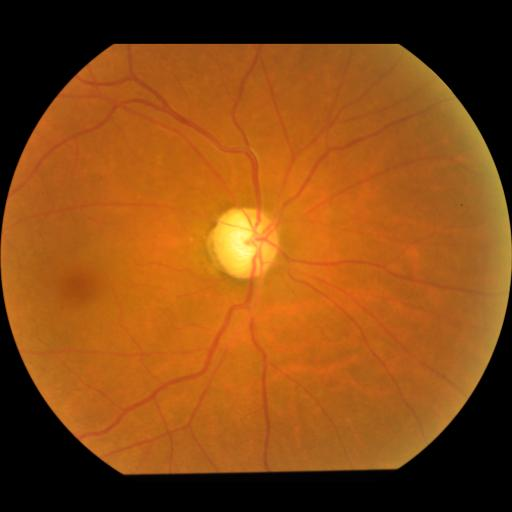Optic Cup: (227, 219, 262, 258)
Optic Disc: (210, 206, 280, 279)
